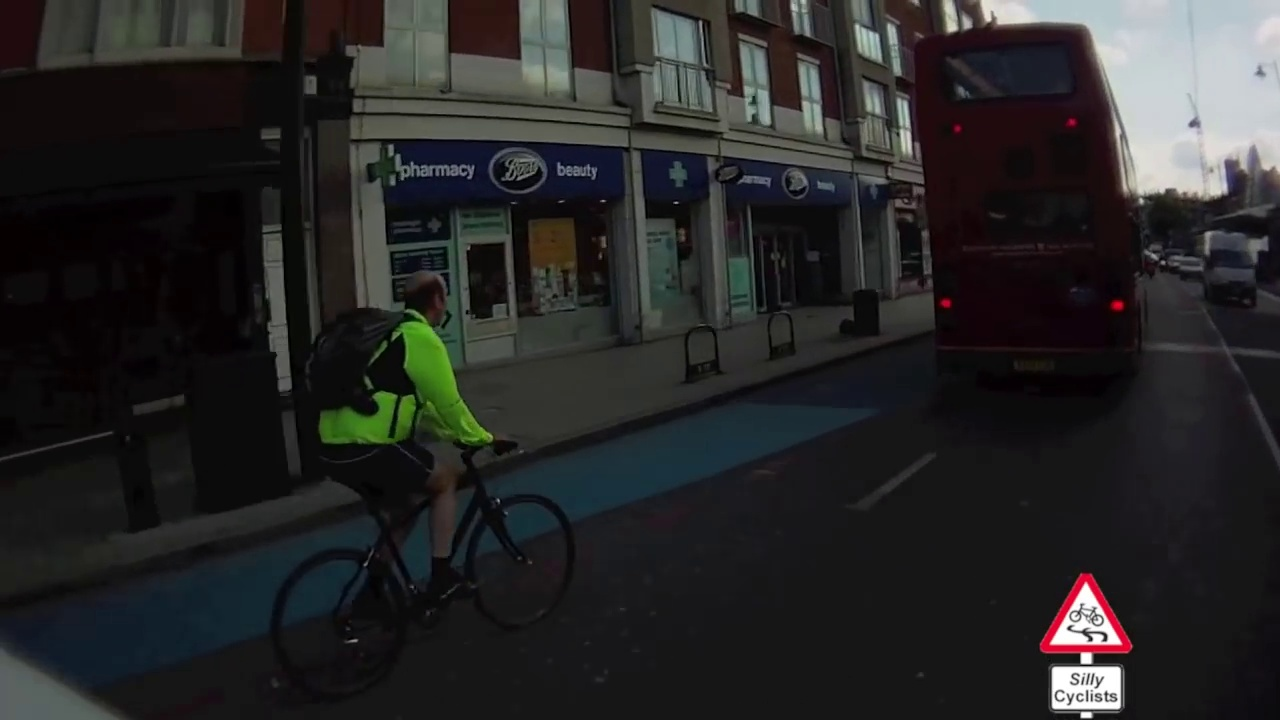cyclist_side: (249, 274, 591, 653)
